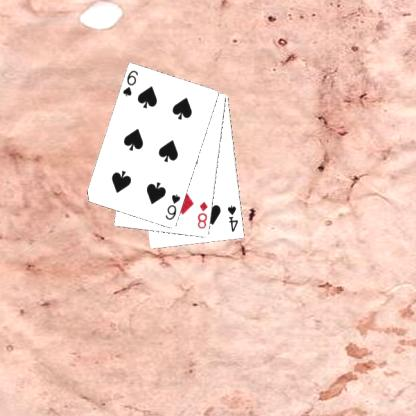4S: (225, 203, 240, 234)
6S: (162, 192, 182, 222), (120, 68, 139, 99)
8D: (194, 198, 210, 230)
